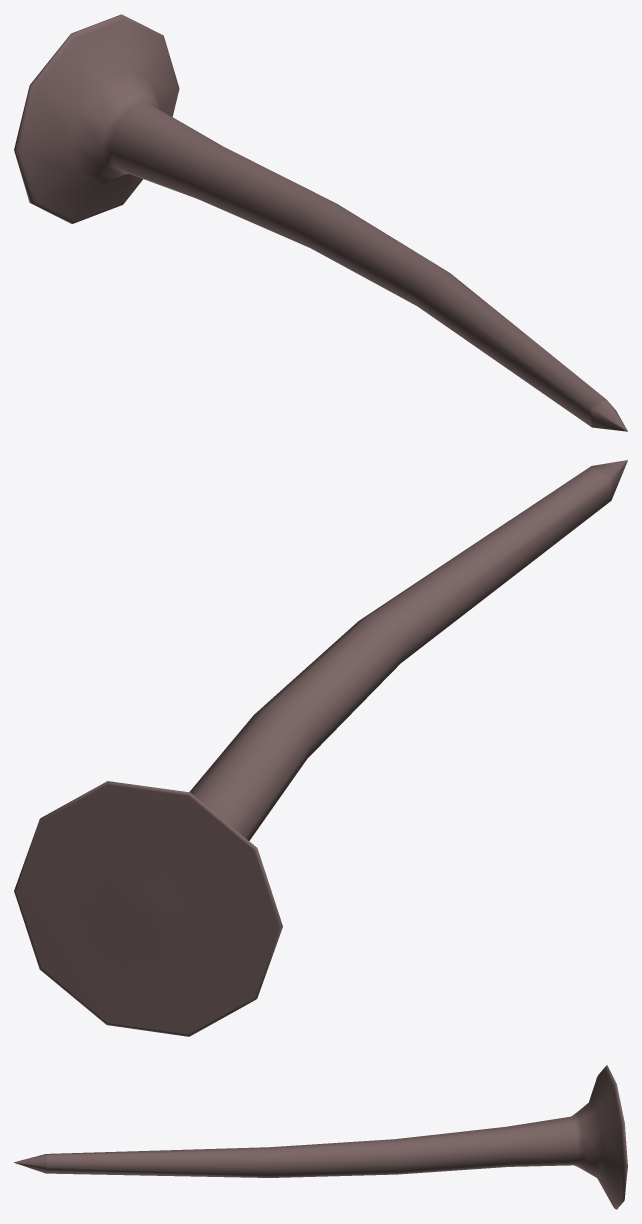
Rendered from Nail.fbx.
3 views of the same model, one above another, from view 1: azimuth 30°, elevation 25°; view 2: azimuth 150°, elevation 25°; view 3: azimuth 270°, elevation 25° (orthographic). The views are drawn at different scales.
Visible parts, largest first — view 1: Nail2; view 2: Nail2; view 3: Nail2.
Part boxes in pixels (box(x1,y1,x2,y2)): Nail2: box(14, 14, 627, 431); Nail2: box(14, 460, 627, 1036); Nail2: box(14, 1065, 627, 1209).
Size of the model in its own units: 0.9093 by 0.8599 by 3.81.
